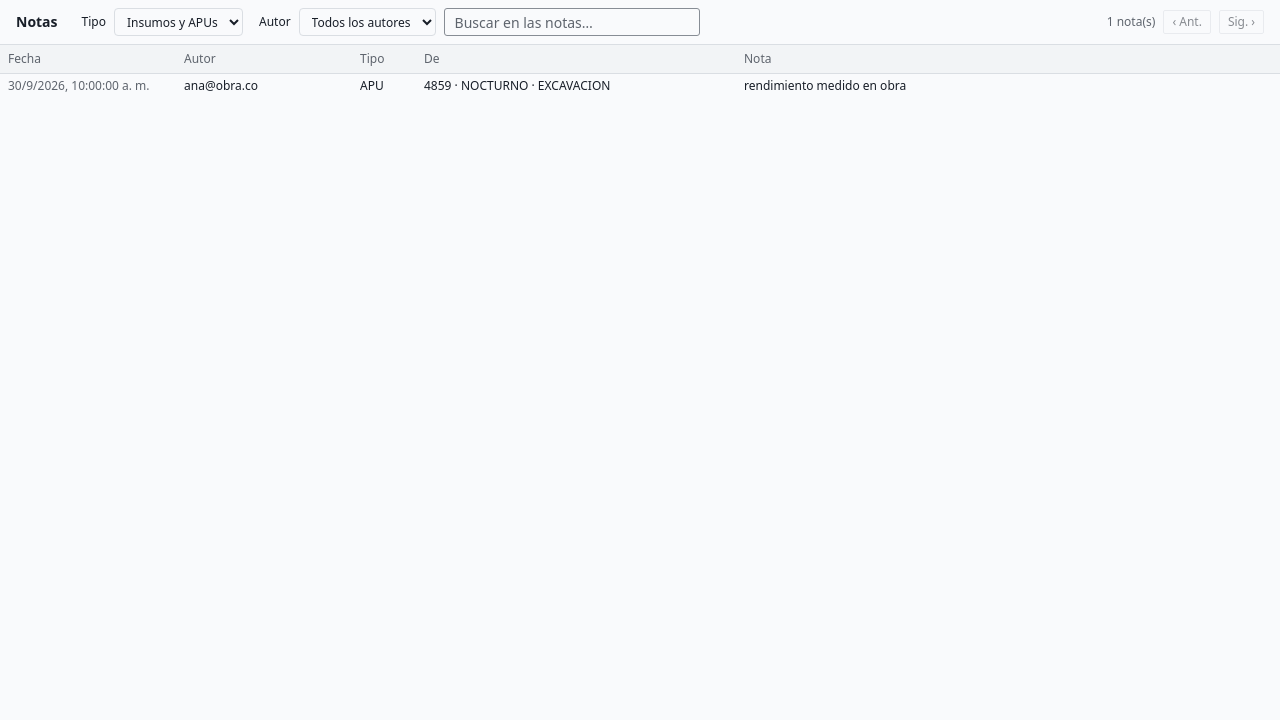
Test: Notas › clic en una fila abre el panel de ese dueño
Click the text "rendimiento medido en obra" at [825, 86], box left=736, top=74, right=1279, bottom=98
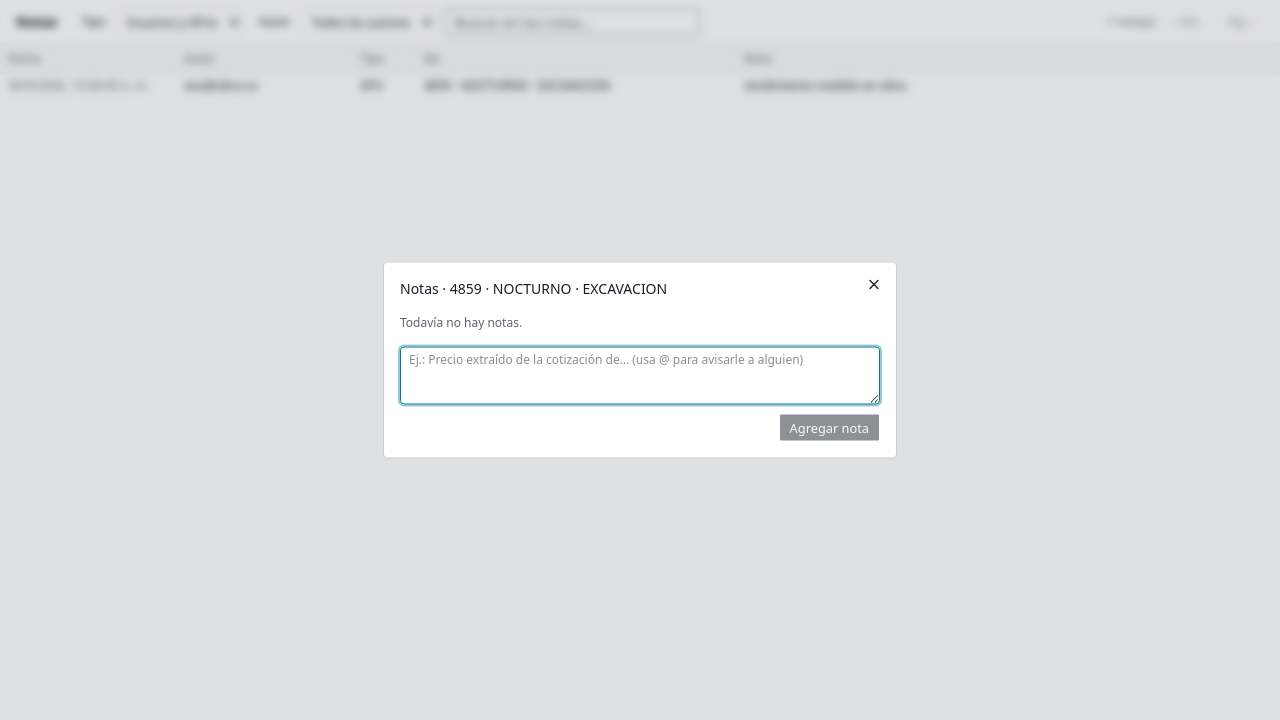
Expected: the heading "Notas · 4859 · NOCTURNO · EXCAVACION" is shown, left=400, top=278, right=667, bottom=298
